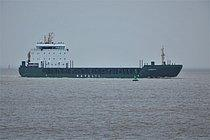Ship: (17, 33, 189, 84)
